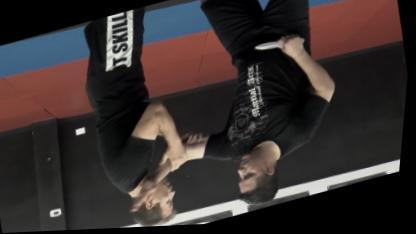knife: (252, 33, 308, 60)
